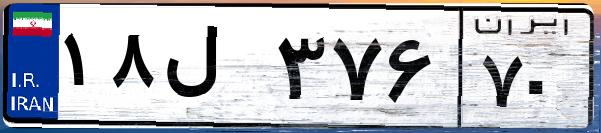0: (525, 38, 570, 115)
1: (57, 26, 110, 100)
3: (270, 28, 330, 110)
6: (385, 28, 445, 110)
7: (330, 28, 385, 110), (475, 38, 525, 113)
8: (110, 28, 158, 98)
ل: (158, 20, 270, 120)
